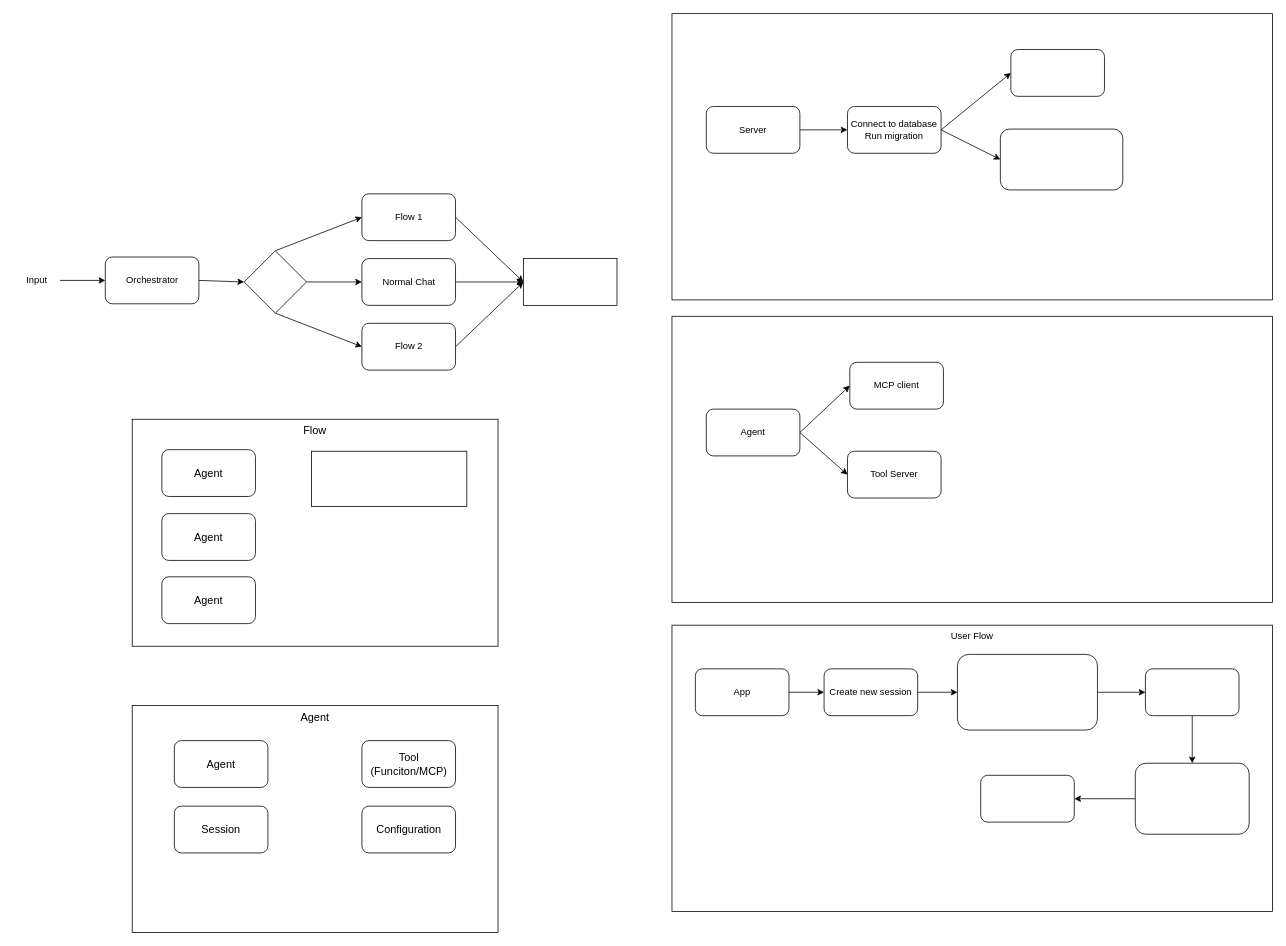
Image size: 1286x946. Some labels were removed from this diagram. The box of each missing label's shape, as (x1, y1, x2, y2) in pixels:
Add chat callback runFlow: (980, 775, 1074, 822)
Chat select provider user input user_id agent_flow_id: (957, 654, 1097, 730)
Final answer: (523, 258, 617, 305)
Get or Create session: (1145, 668, 1239, 716)
Init Agent when create new agent: (671, 316, 1273, 603)
Init Application Run when the app start: (671, 13, 1273, 300)
Init session (Create client by provider): (1135, 762, 1249, 834)
Mode(Hierarchical/Human-in-the-Loop/Sequential): (311, 450, 467, 507)
New Agent Service (LoadConfig connect to db): (1000, 128, 1123, 190)
Run Server(API): (1010, 49, 1104, 96)
Which flow?: (243, 250, 307, 313)
